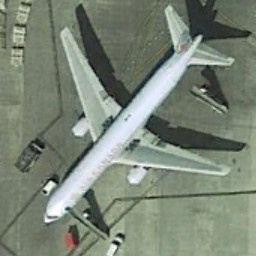Airplane: (35, 3, 245, 234)
